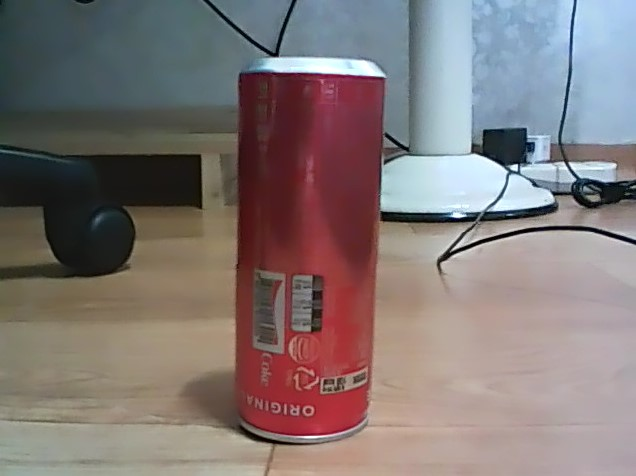Can: (228, 52, 387, 449)
